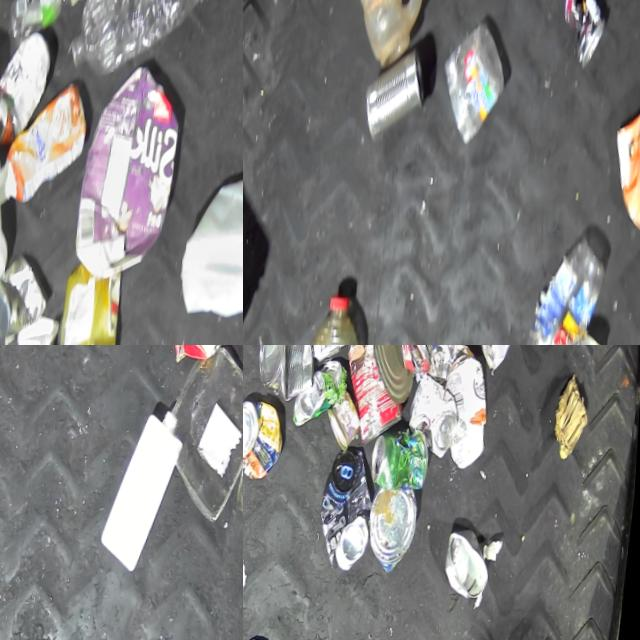can: (319, 451, 383, 578), (0, 26, 62, 156), (341, 345, 415, 450), (364, 47, 433, 145), (407, 376, 464, 466), (369, 491, 425, 579), (0, 245, 45, 345), (255, 345, 325, 407), (371, 430, 433, 498), (294, 361, 351, 433), (445, 535, 499, 611), (559, 0, 612, 74), (243, 400, 289, 485), (366, 345, 425, 408), (326, 393, 367, 456), (476, 345, 518, 378), (299, 345, 359, 368)
milk_jug: (100, 407, 191, 578), (179, 170, 243, 335)
non_white_jug: (329, 0, 434, 75), (162, 345, 243, 378)
plastic_bottle: (64, 0, 214, 87), (507, 237, 614, 345)
